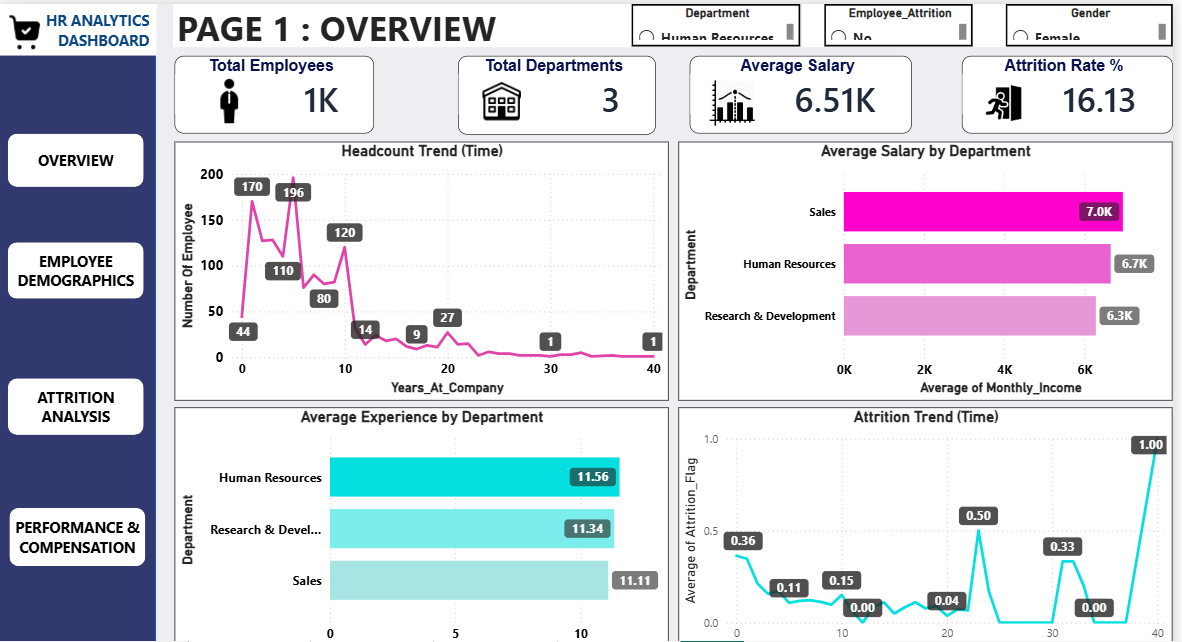

Layout of this report page (visuals, bound fields, positions):
{"tool":"powerbi","page":{"name":"Page 1","canvas":[1280,720],"ordinal":0},"visuals":[{"type":"shape","box":[0,0,172.3,720.6],"z":0},{"type":"actionButton","box":[10.6,141.2,148.3,58.2],"z":1000},{"type":"actionButton","box":[12.4,548.9,148.3,63.5],"z":2000},{"type":"actionButton","box":[10.6,259.4,148.3,61.8],"z":3000},{"type":"actionButton","box":[10.6,407.7,148.3,61.8],"z":4000},{"type":"cardVisual","title":"Total Employees","fields":{"Data":["Excel_HR_Cleaned_Data.Total Employees"]},"box":[192.4,56.5,217.1,84.7],"z":5000},{"type":"textbox","box":[190.6,0,1088.5,47],"z":6000},{"type":"cardVisual","title":"Total Departments","fields":{"Data":["Excel_HR_Cleaned_Data.Total Departments"]},"box":[500.5,55.8,215.3,85.7],"z":7000},{"type":"cardVisual","title":"Average Salary","fields":{"Data":["Excel_HR_Cleaned_Data.Average Salary"]},"box":[753.6,56.5,241.8,84.7],"z":8000},{"type":"cardVisual","title":"Attrition Rate %","fields":{"Data":["Excel_HR_Cleaned_Data.Attrition Rate (%)"]},"box":[1050.1,56.5,229.4,84.7],"z":9000},{"type":"lineChart","title":"Headcount Trend (Time)","fields":{"Category":["Excel_HR_Cleaned_Data.Years_At_Company"],"Y":["Count(Excel_HR_Cleaned_Data.Employee_Number)"]},"box":[192.4,150,538,282],"z":10000},{"type":"lineChart","title":"Attrition Trend (Time)","fields":{"Category":["Excel_HR_Cleaned_Data.Years_At_Company"],"Y":["Avg(Excel_HR_Cleaned_Data.Attrition_Flag)"]},"box":[741.3,439.5,538.3,280.6],"z":11000},{"type":"clusteredBarChart","title":"Average Experience by Department","fields":{"Category":["Excel_HR_Cleaned_Data.Department"],"Y":["Avg(Excel_HR_Cleaned_Data.Total_Working_Years)"]},"box":[192.4,439.5,538.3,280.6],"z":12000},{"type":"clusteredBarChart","title":"Average Salary by Department","fields":{"Category":["Excel_HR_Cleaned_Data.Department"],"Y":["Avg(Excel_HR_Cleaned_Data.Monthly_Income)"]},"box":[741.3,150,538.3,282.4],"z":13000},{"type":"actionButton","box":[0,0,173,56.5],"z":14000},{"type":"image","box":[217.3,79.8,69.8,53.8],"z":15000},{"type":"image","box":[520.4,83.7,55.8,49.8],"z":16000},{"type":"image","box":[765.6,83.7,67.8,49.8],"z":17000},{"type":"image","box":[1062.7,83.7,65.8,49.8],"z":18000},{"type":"listSlicer","fields":{"Values":["Excel_HR_Cleaned_Data.Department"]},"box":[690,0,184,46],"z":19000},{"type":"listSlicer","fields":{"Values":["Excel_HR_Cleaned_Data.Employee_Attrition"]},"box":[900,0,162,46],"z":20000},{"type":"listSlicer","fields":{"Values":["Excel_HR_Cleaned_Data.Gender"]},"box":[1098,0,182,46],"z":22000}]}

Visuals, with their boxes on the page's 1280x720 design canvas (x1, y1, x2, y2). These are canvas units, not pixel positions in the 1182x642 screenshot, which may show the page scaled, cropped or inside an application window:
shape: (0,0,172,721)
actionButton: (11,141,159,199)
actionButton: (12,549,161,612)
actionButton: (11,259,159,321)
actionButton: (11,408,159,470)
"Total Employees" cardVisual: (192,56,410,141)
textbox: (191,0,1279,47)
"Total Departments" cardVisual: (500,56,716,142)
"Average Salary" cardVisual: (754,56,995,141)
"Attrition Rate %" cardVisual: (1050,56,1280,141)
"Headcount Trend (Time)" lineChart: (192,150,730,432)
"Attrition Trend (Time)" lineChart: (741,440,1280,720)
"Average Experience by Department" clusteredBarChart: (192,440,731,720)
"Average Salary by Department" clusteredBarChart: (741,150,1280,432)
actionButton: (0,0,173,56)
image: (217,80,287,134)
image: (520,84,576,134)
image: (766,84,833,134)
image: (1063,84,1128,134)
listSlicer - Excel_HR_Cleaned_Data.Department: (690,0,874,46)
listSlicer - Excel_HR_Cleaned_Data.Employee_Attrition: (900,0,1062,46)
listSlicer - Excel_HR_Cleaned_Data.Gender: (1098,0,1280,46)
